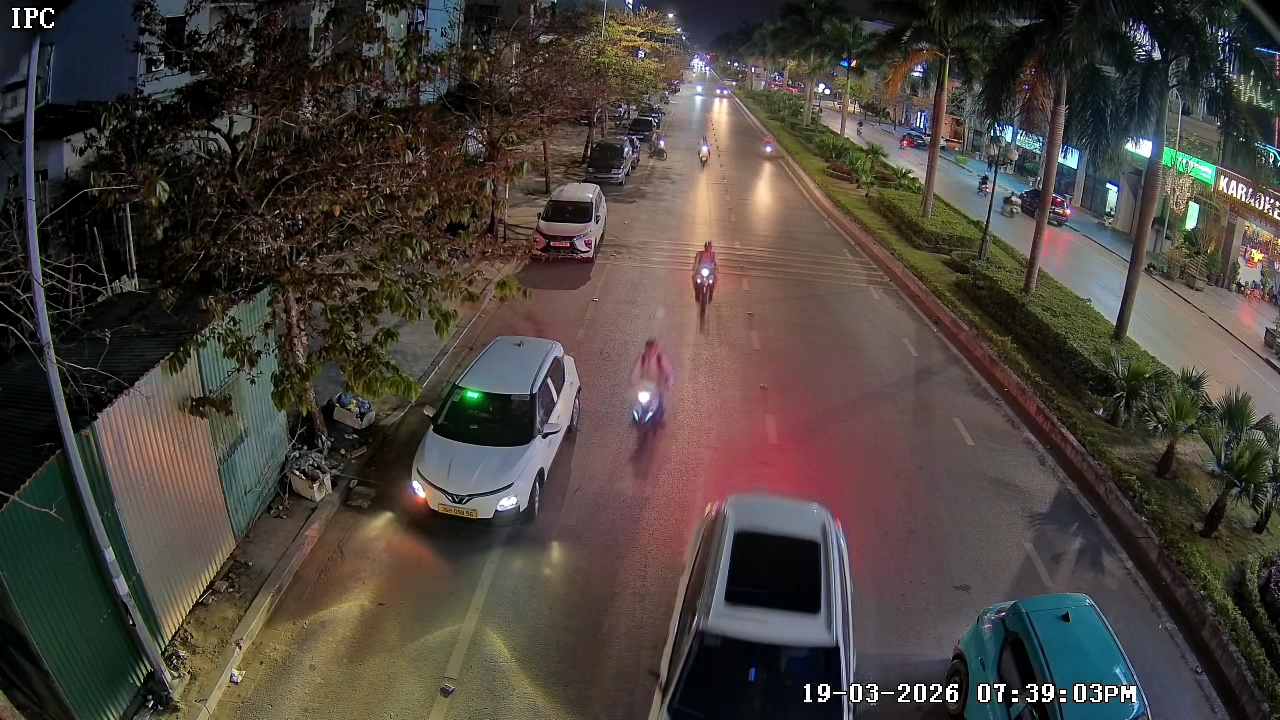car: (644, 489, 886, 719), (405, 333, 584, 530), (941, 592, 1155, 719), (528, 180, 609, 264), (580, 132, 638, 188)
motorbike: (627, 332, 675, 440), (690, 239, 720, 311), (648, 127, 667, 162), (695, 134, 711, 168), (757, 133, 778, 158)
